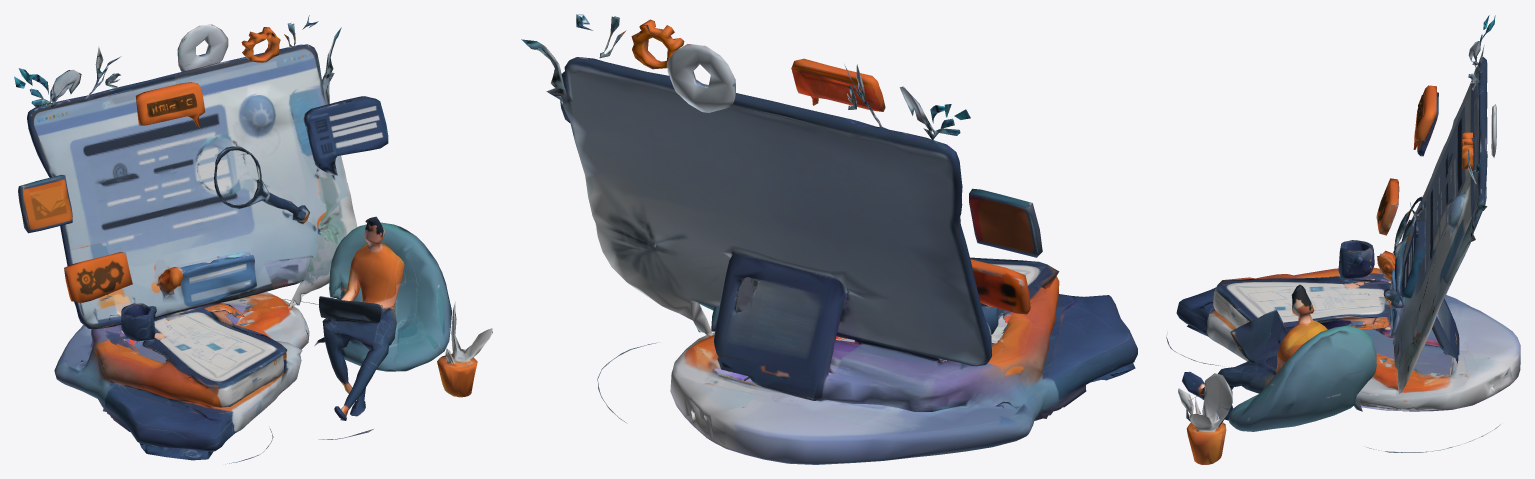
File: web_dev2.glb
3 renders of one model, left to right at view 1: azimuth 30°, elevation 25°; view 2: azimuth 150°, elevation 25°; view 3: azimuth 270°, elevation 25°, orthographic. The views are drawn at different scales.
Bounding box in the file's own units: 1.96 × 1.62 × 1.66.
Materials: 1 (1 with a texture image).
